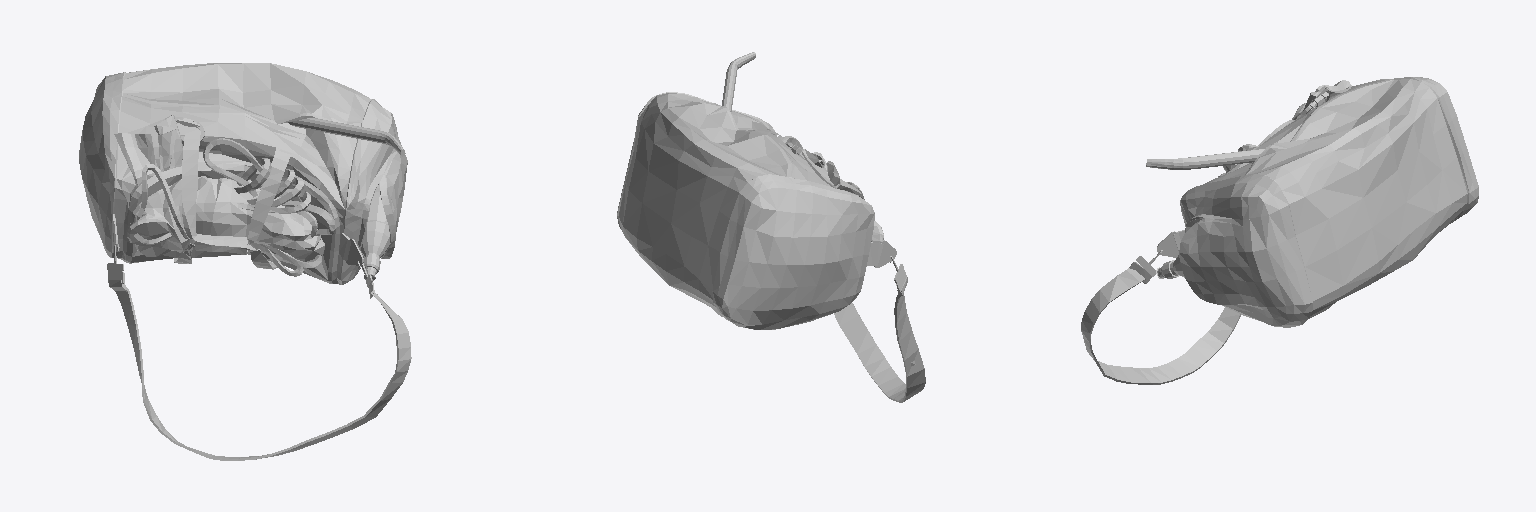
File: sportsbag.obj
3 views of the same model, side by side, from view 1: azimuth 30°, elevation 25°; view 2: azimuth 150°, elevation 25°; view 3: azimuth 270°, elevation 25° (orthographic).
Parts seen in each view (by area): view 1: rdmobj00; view 2: rdmobj00; view 3: rdmobj00.
Boxes of the visible parts, <box> form: rdmobj00: <box>79,63,411,460</box>; rdmobj00: <box>617,52,925,402</box>; rdmobj00: <box>1081,77,1478,384</box>.
Size of the model in its own units: 19.31 by 20.1 by 23.72.